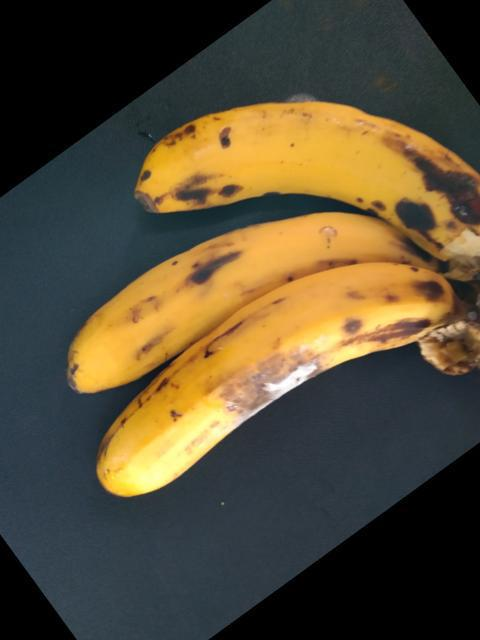overripe: (93, 271, 433, 514), (41, 199, 386, 393), (124, 87, 479, 246)
